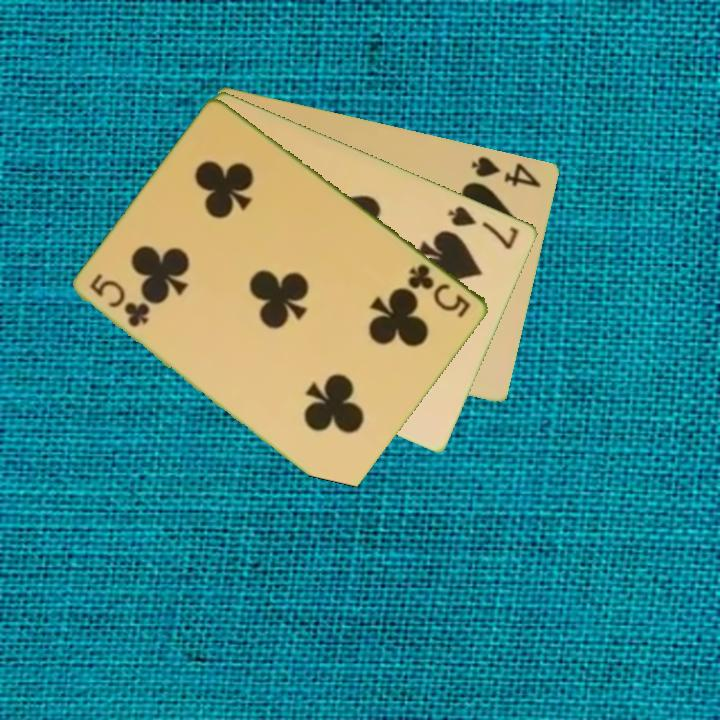4s: (468, 152, 545, 190)
5c: (405, 260, 475, 321), (87, 270, 153, 330)
7s: (444, 202, 522, 252)
